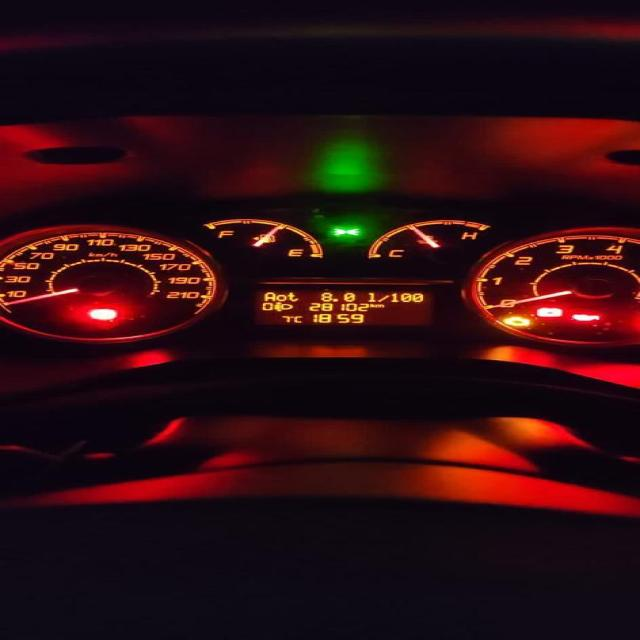odometer: (252, 288, 434, 326)
